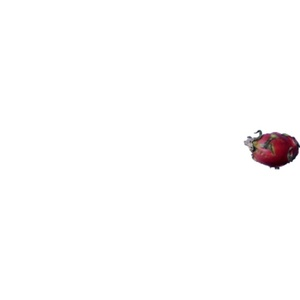pitaia: (245, 130, 300, 170)
